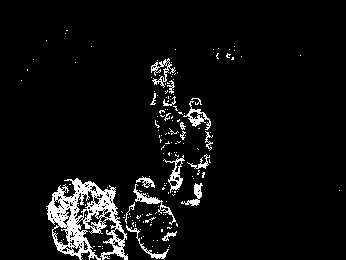person: (124, 176, 178, 260), (179, 98, 214, 212), (154, 96, 187, 194)
